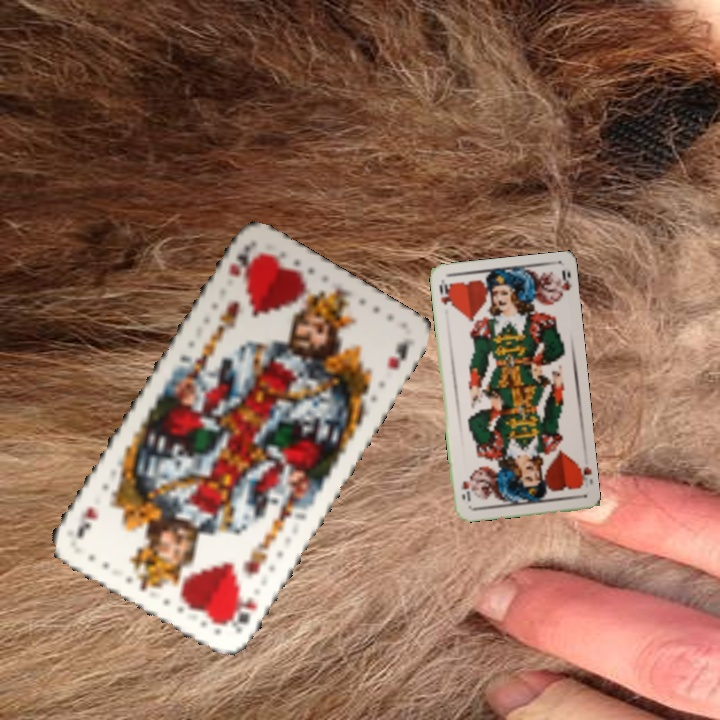HK: (221, 593, 261, 637), (224, 241, 253, 280)
HO: (573, 459, 593, 491), (435, 278, 455, 308)
